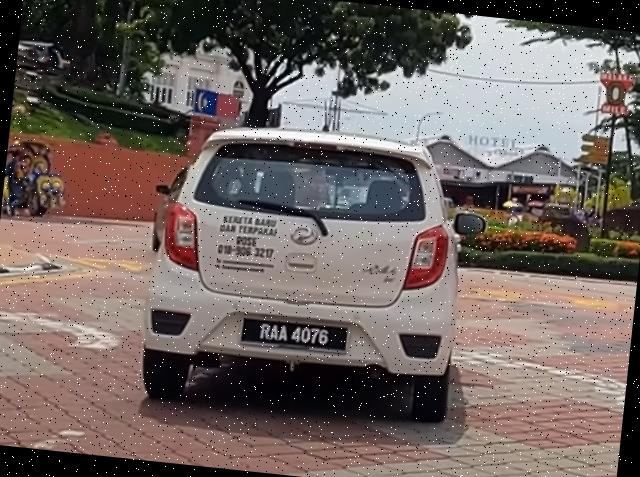License_Plate: (239, 314, 352, 356)
car: (134, 112, 495, 431)
